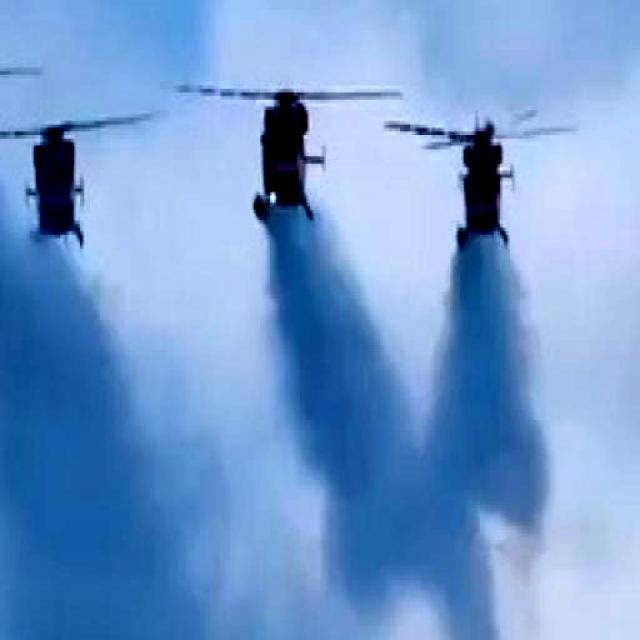drone: (439, 84, 531, 284), (12, 84, 106, 276), (232, 60, 330, 239)
